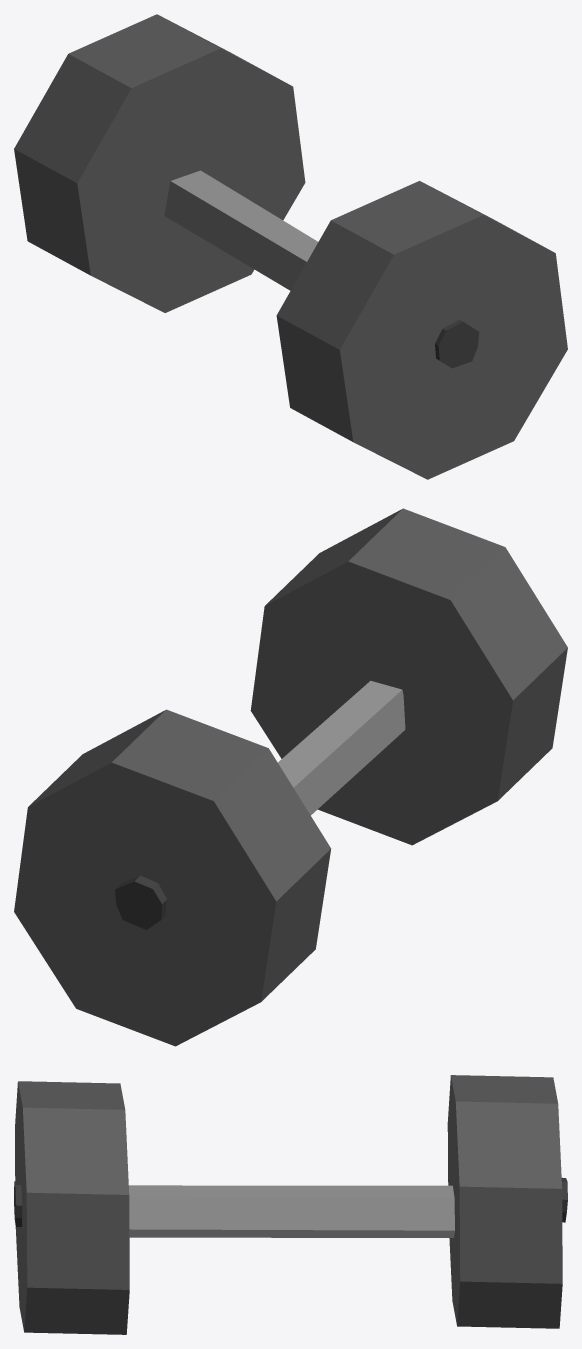
The model's file is Dum.fbx.
3 views of the same model, one above another, from view 1: azimuth 30°, elevation 25°; view 2: azimuth 150°, elevation 25°; view 3: azimuth 270°, elevation 25° (orthographic). The views are drawn at different scales.
Parts seen in each view (by area): view 1: Dum; view 2: Dum; view 3: Dum.
Boxes of the visible parts, <box> form: Dum: <box>14,14,567,479</box>; Dum: <box>14,508,567,1046</box>; Dum: <box>14,1075,567,1334</box>.
Bounding box in the file's own units: 19.61 × 39.65 × 18.42.
